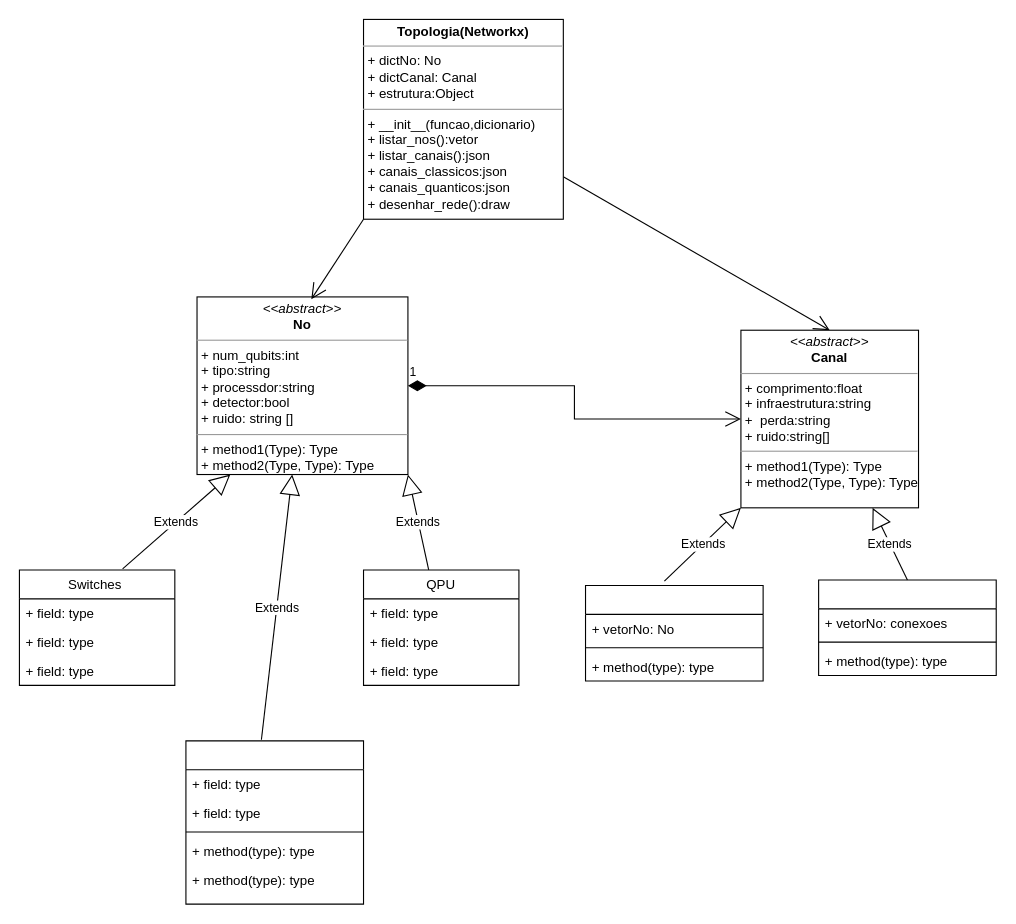
Image size: 1016x924. Some labels were removed from this diagram. The box of each missing label's shape, as (x1, y1, x2, y2) in pixels:
Clássico: (584, 584, 763, 681)
Quântico: (818, 579, 996, 675)
Roteadores: (185, 740, 364, 904)
